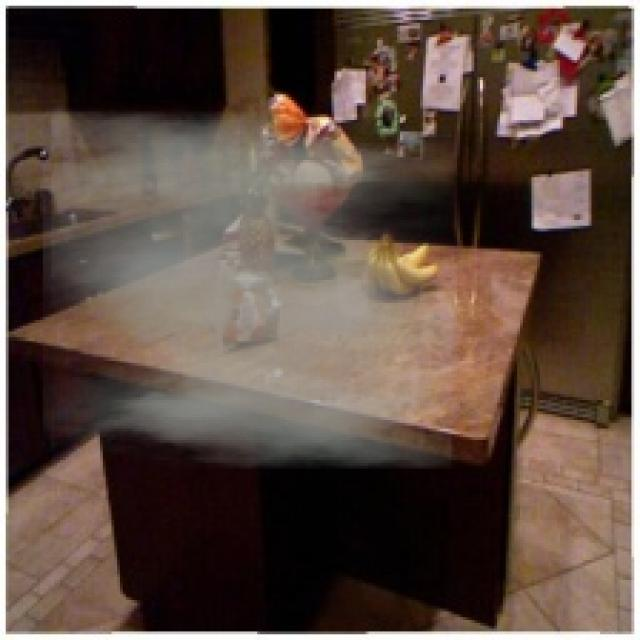smoke: (43, 111, 457, 468)
